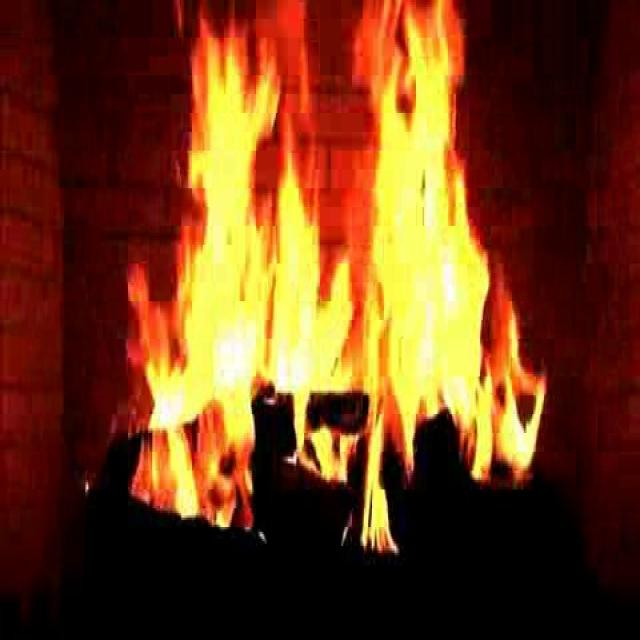fire: (136, 7, 536, 520)
